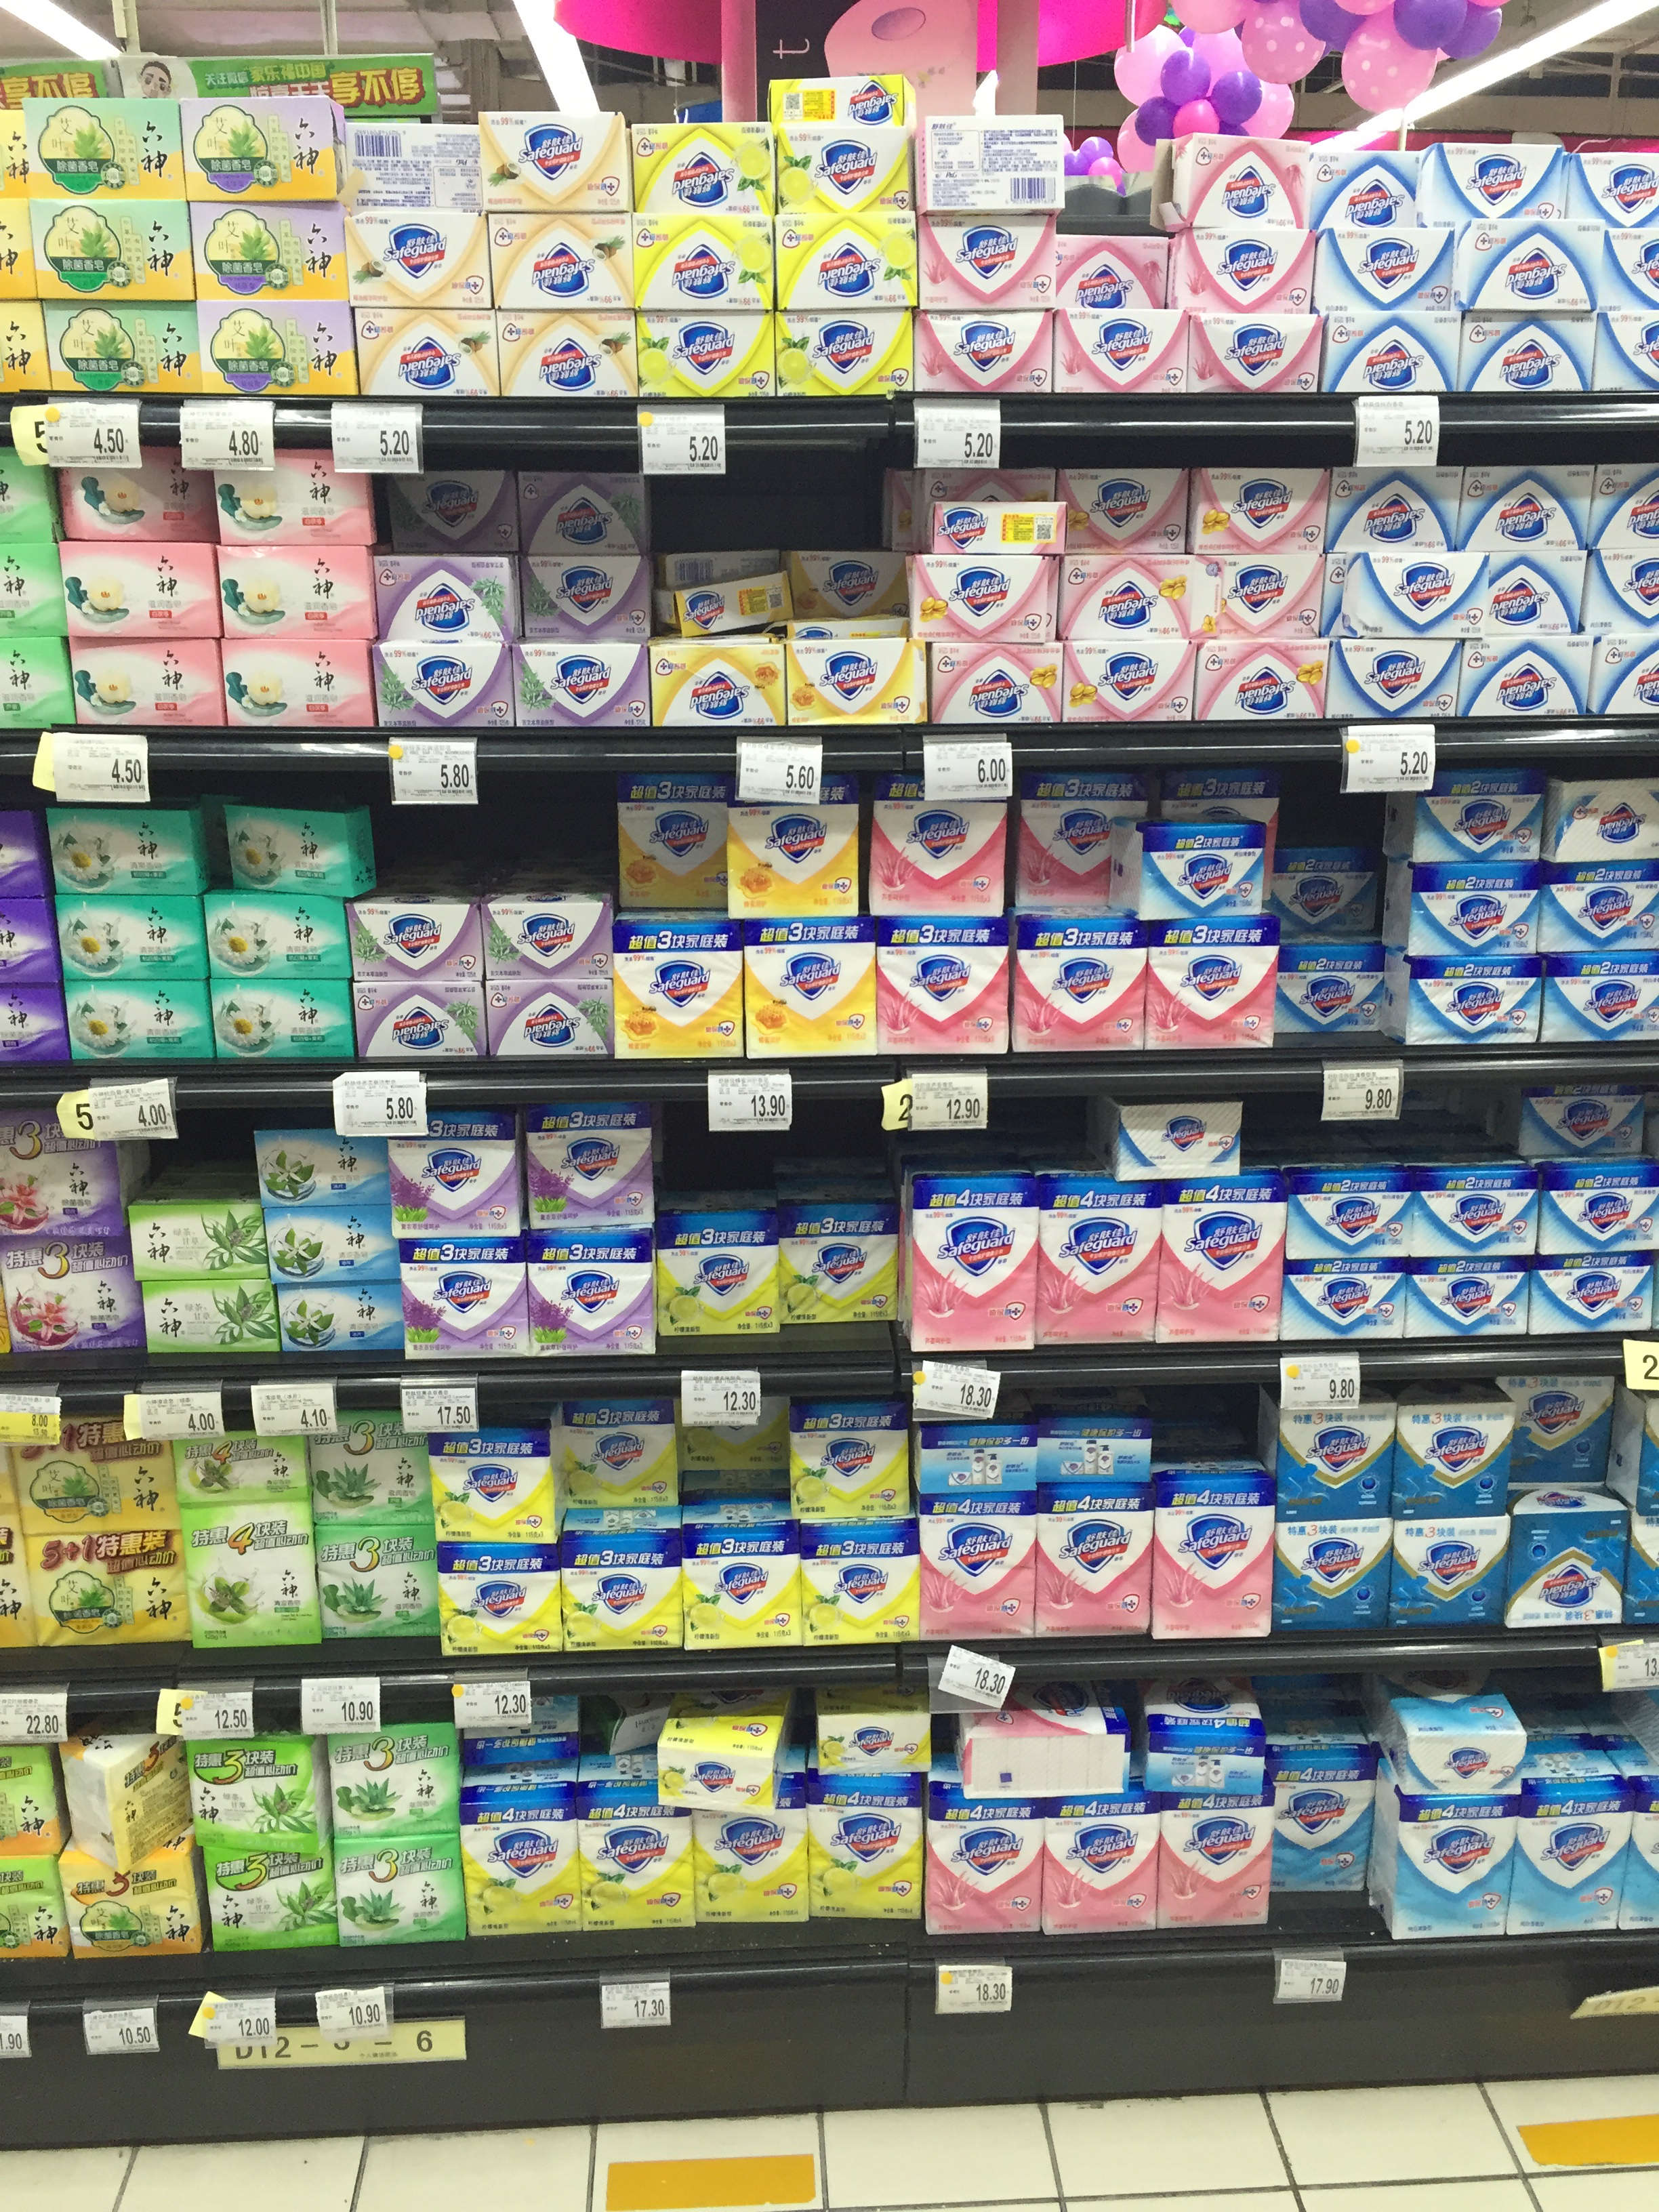product: (908, 1170, 1033, 1350), (1161, 1163, 1279, 1341), (1040, 1169, 1152, 1345), (30, 1533, 188, 1651), (1164, 1474, 1274, 1641), (1392, 1778, 1507, 1935), (725, 777, 857, 913), (1014, 913, 1145, 1050), (934, 1785, 1053, 1937), (188, 1515, 319, 1651), (878, 918, 1007, 1055), (748, 918, 875, 1054), (878, 768, 997, 913), (1150, 921, 1276, 1055), (697, 1777, 810, 1925), (28, 1416, 178, 1527), (1040, 1494, 1154, 1641), (586, 1775, 690, 1930), (21, 94, 178, 193), (526, 1099, 653, 1221), (397, 1109, 521, 1233), (30, 199, 186, 296), (620, 921, 735, 1054), (58, 540, 216, 636), (786, 1195, 897, 1331), (469, 1792, 577, 1930), (659, 1214, 775, 1341), (617, 773, 723, 913), (56, 444, 213, 538), (202, 1846, 336, 1956), (823, 1768, 918, 1921), (190, 200, 343, 296), (0, 1233, 122, 1353), (0, 1103, 119, 1226), (200, 301, 350, 397), (1054, 1799, 1157, 1939), (183, 99, 331, 195), (1530, 1784, 1622, 1937), (44, 300, 197, 392), (436, 1416, 554, 1534), (408, 1238, 526, 1357), (807, 1524, 925, 1642), (532, 1233, 652, 1350), (685, 1517, 800, 1639), (61, 1733, 174, 1857), (570, 1519, 678, 1648), (218, 549, 376, 636), (218, 449, 364, 543), (190, 1738, 328, 1838), (350, 207, 488, 307), (929, 1501, 1032, 1634), (225, 799, 368, 894), (347, 1836, 462, 1952), (788, 1395, 903, 1510), (335, 1728, 460, 1832), (1169, 1792, 1265, 1928), (1396, 1402, 1511, 1515), (1021, 765, 1115, 902), (481, 113, 626, 202), (322, 1522, 434, 1637), (495, 218, 633, 310), (920, 122, 1063, 211), (68, 639, 220, 723), (1403, 953, 1537, 1047), (918, 212, 1054, 305), (227, 639, 368, 728), (45, 806, 195, 890), (1276, 1763, 1370, 1895), (64, 1860, 199, 1952), (380, 550, 516, 641), (1185, 129, 1309, 228), (444, 1541, 559, 1648), (638, 216, 772, 307), (56, 895, 207, 975), (631, 122, 775, 206), (1284, 1522, 1398, 1629), (357, 310, 497, 395), (1415, 763, 1541, 857), (345, 113, 477, 202), (788, 639, 925, 725), (1398, 1524, 1518, 1622), (314, 1407, 425, 1512), (1464, 221, 1596, 308), (779, 218, 911, 305), (915, 556, 1053, 639), (915, 310, 1053, 394), (568, 1397, 678, 1501), (61, 982, 207, 1061), (1410, 862, 1539, 951), (375, 646, 509, 732), (1525, 1505, 1621, 1622), (505, 315, 636, 401), (512, 646, 648, 728), (213, 979, 349, 1061), (1415, 1160, 1535, 1252), (641, 312, 774, 395), (1058, 310, 1190, 394), (525, 556, 648, 644), (929, 641, 1063, 723), (1152, 819, 1269, 913), (1286, 1406, 1389, 1512), (1288, 1167, 1408, 1258), (523, 469, 648, 554), (1330, 554, 1460, 636), (1065, 641, 1192, 725), (1194, 469, 1321, 552), (1326, 312, 1459, 392), (1542, 1160, 1659, 1251), (1065, 469, 1188, 554), (211, 900, 349, 977), (1199, 556, 1324, 639), (1460, 467, 1586, 550), (389, 467, 514, 550), (484, 897, 610, 979), (1335, 465, 1455, 550), (779, 312, 910, 390), (1427, 139, 1560, 216), (1321, 228, 1453, 305), (962, 1717, 1133, 1777), (1547, 862, 1659, 953), (1194, 310, 1319, 390), (687, 1395, 782, 1500), (1520, 1374, 1612, 1482), (655, 644, 781, 723), (1180, 233, 1314, 307), (1467, 312, 1589, 392), (1199, 641, 1326, 718), (1284, 946, 1387, 1040), (355, 984, 484, 1059), (784, 129, 903, 209), (129, 1200, 261, 1271), (1544, 960, 1659, 1042), (1065, 557, 1192, 631), (1288, 1261, 1406, 1339), (1413, 1263, 1532, 1341), (1467, 639, 1589, 714), (1469, 552, 1581, 634), (143, 1284, 277, 1352), (185, 1428, 301, 1505), (1554, 772, 1659, 857), (925, 1418, 1032, 1501), (263, 1130, 390, 1200), (1279, 845, 1375, 937), (355, 906, 479, 977), (1115, 1092, 1241, 1162), (268, 1207, 396, 1275), (488, 984, 613, 1052), (1537, 1261, 1659, 1329), (1140, 1723, 1267, 1787), (1037, 1416, 1154, 1486), (1058, 233, 1166, 308), (1335, 644, 1457, 711), (284, 1285, 404, 1352), (1317, 150, 1420, 226), (1396, 1717, 1523, 1771), (774, 73, 908, 124), (803, 550, 904, 617), (1570, 143, 1659, 218), (925, 502, 1063, 549), (816, 1705, 934, 1759), (659, 580, 795, 624), (647, 1733, 777, 1768), (659, 545, 784, 573)
